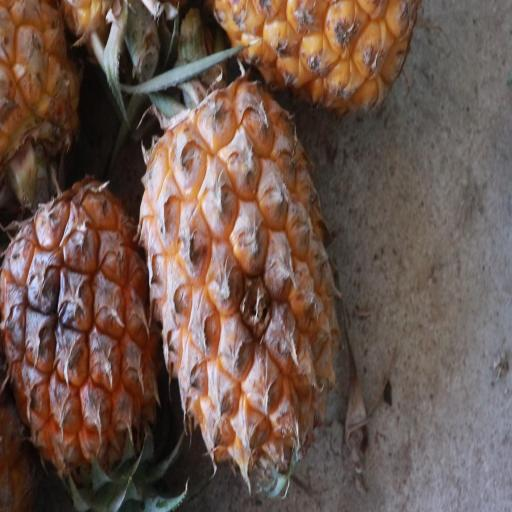Pineapple - v8 v1: (137, 61, 344, 480), (4, 167, 162, 482), (3, 492, 6, 497)
